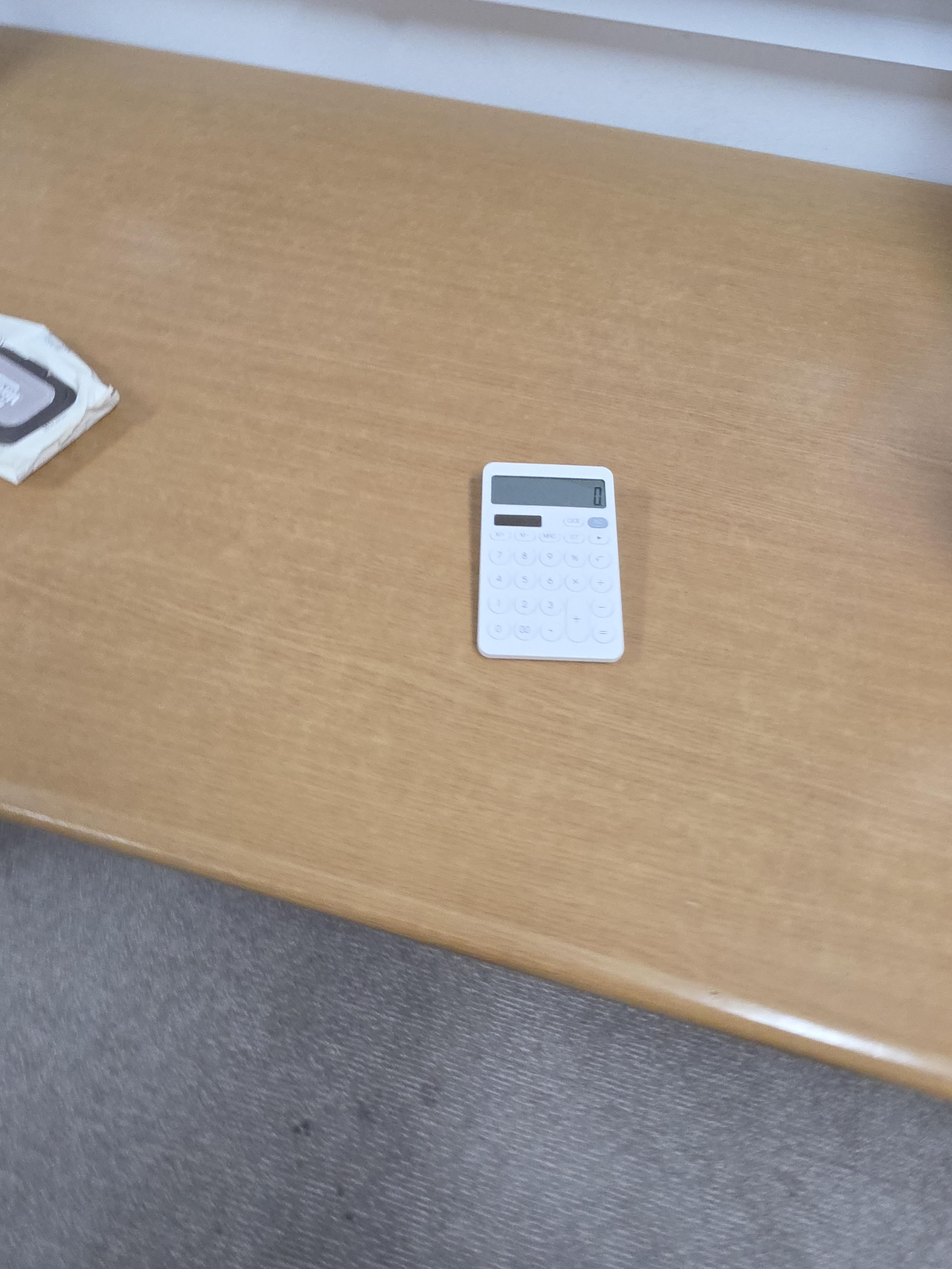calculator: (477, 462, 625, 663)
tissue: (0, 313, 120, 485)
